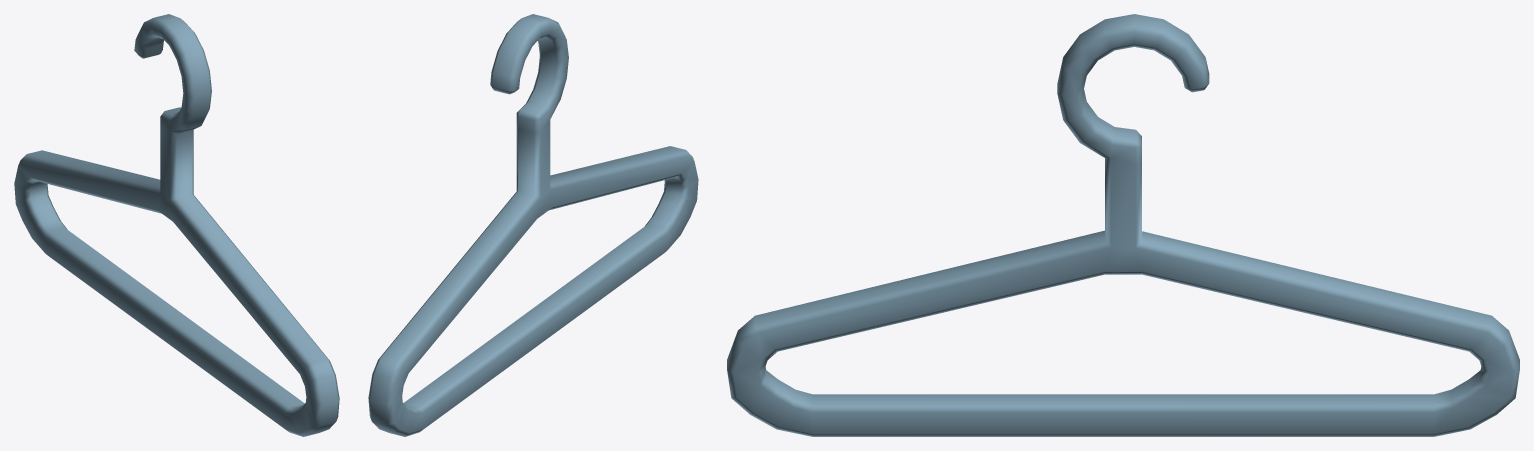
File: Clothes_hanger_2.glb
3 renders of one model, left to right at view 1: azimuth 30°, elevation 25°; view 2: azimuth 150°, elevation 25°; view 3: azimuth 270°, elevation 25°, orthographic. The views are drawn at different scales.
Parts seen in each view (by area): view 1: Clothes_hanger_2; view 2: Clothes_hanger_2; view 3: Clothes_hanger_2.
Boxes of the visible parts, left/top/right/bottom form: Clothes_hanger_2: left=14, top=14, right=339, bottom=436; Clothes_hanger_2: left=368, top=14, right=698, bottom=436; Clothes_hanger_2: left=727, top=14, right=1519, bottom=436.
Bounding box in the file's own units: 0.017 × 0.2179 × 0.3789.
Materials: 1 (1 with a texture image).
